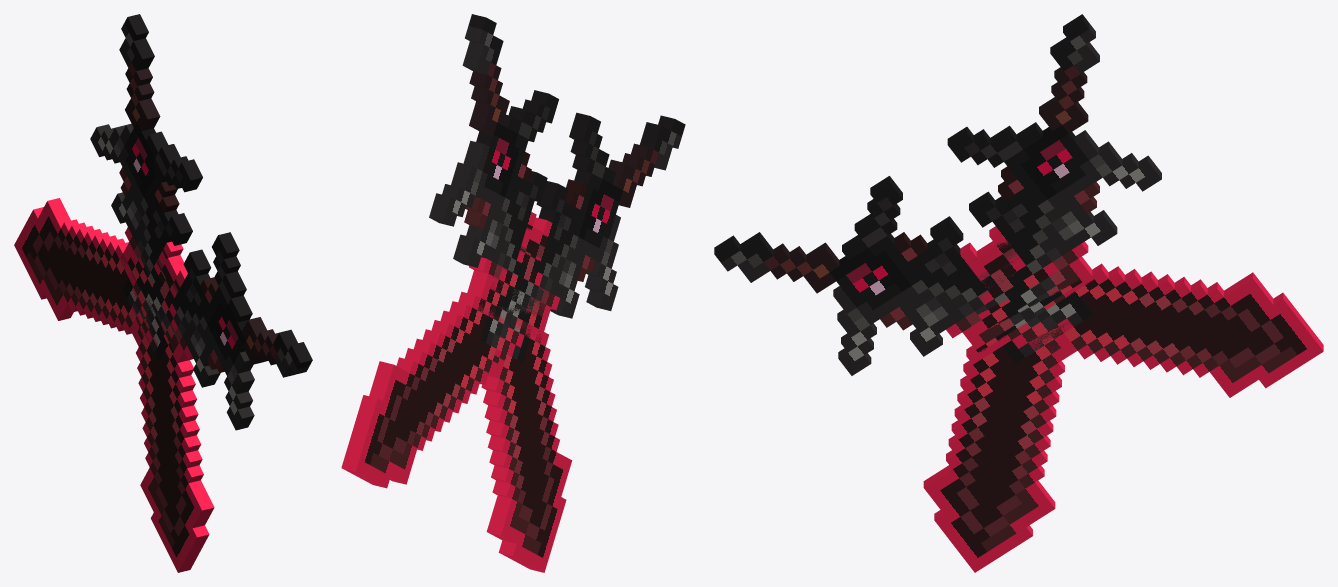
The model's file is crimson_sovereign_sword.glb.
3 views of the same model, side by side, from view 1: azimuth 30°, elevation 25°; view 2: azimuth 150°, elevation 25°; view 3: azimuth 270°, elevation 25° (orthographic). The views are drawn at different scales.
Parts seen in each view (by area): view 1: off__Tool_L, main__Tool_R; view 2: main__Tool_R, off__Tool_L; view 3: off__Tool_L, main__Tool_R.
Part boxes in pixels (<box>): off__Tool_L: <box>90,14,214,572</box>; main__Tool_R: <box>14,198,312,430</box>; main__Tool_R: <box>341,112,685,488</box>; off__Tool_L: <box>429,14,572,572</box>; off__Tool_L: <box>923,14,1161,572</box>; main__Tool_R: <box>714,176,1323,397</box>.
Bounding box in the file's own units: 0.075 × 2.98 × 2.98.
1 material, 1 textured.
